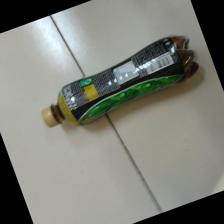Olong: (36, 34, 199, 128)
